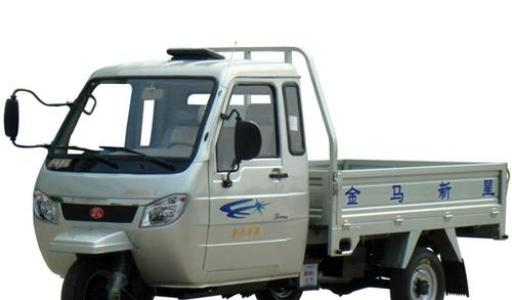tricycle: (18, 44, 501, 300)
